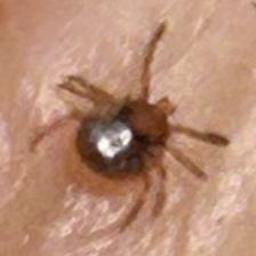Ixodes scapularis: (28, 18, 232, 234)
